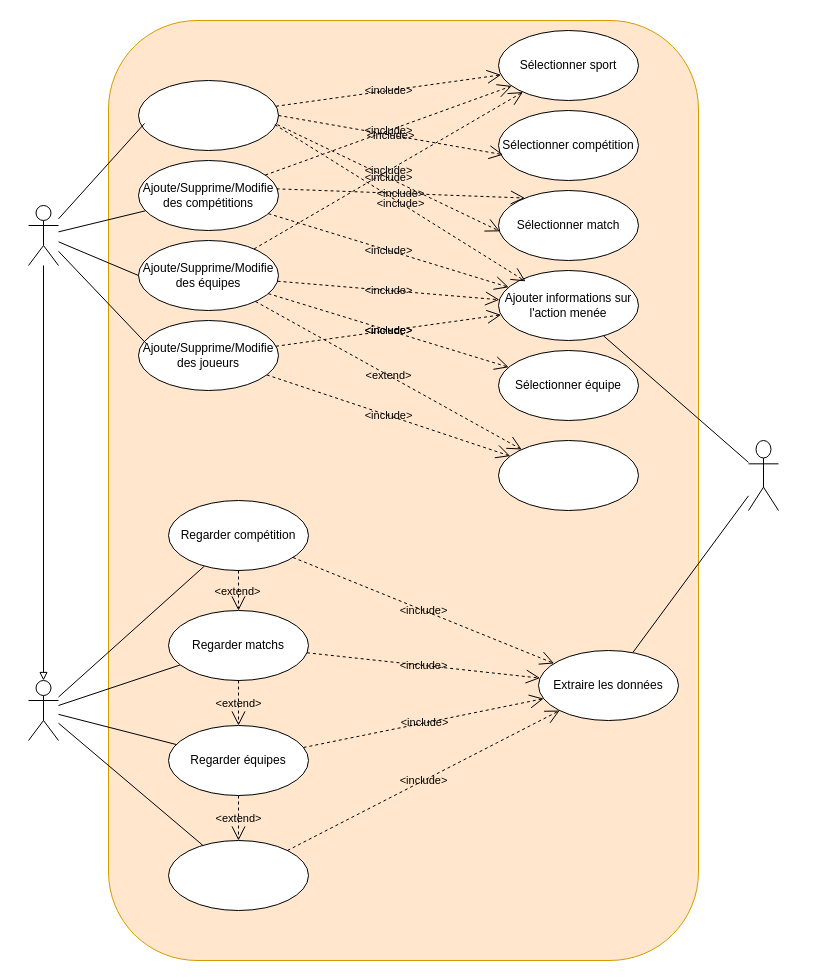
This 827x978 diagram has some shape labels left out. Each missing label, with the centre of its shape:
"Admin" goes at point (43, 235).
"Ajoute/Supprime/Modifie des matchs" goes at point (208, 115).
"Base de données" goes at point (763, 475).
"Regarder joueurs" goes at point (238, 875).
"Sélectionner joueur" goes at point (568, 475).
"Utilisateur" goes at point (43, 710).
